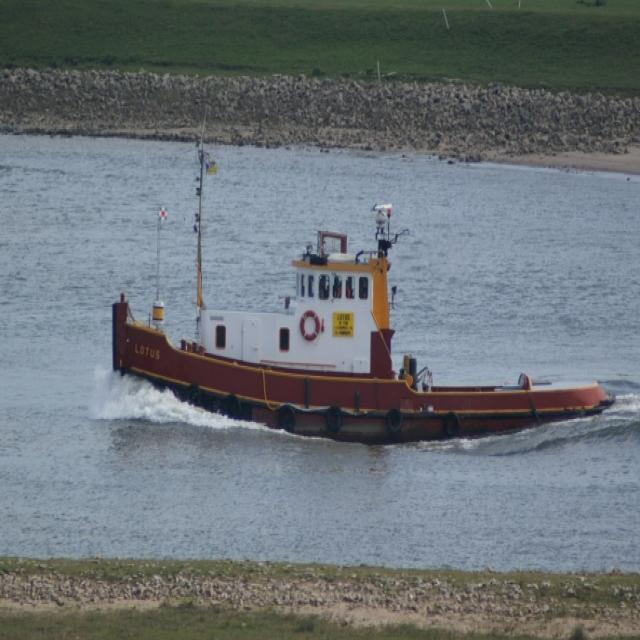tugboat: (95, 199, 627, 473)
